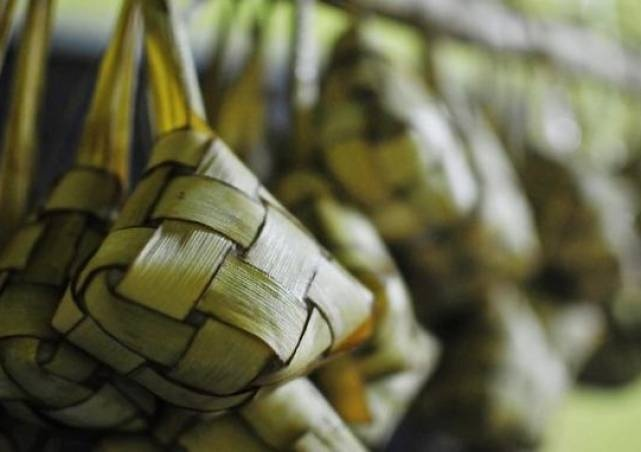ketupat: (51, 127, 375, 416)
